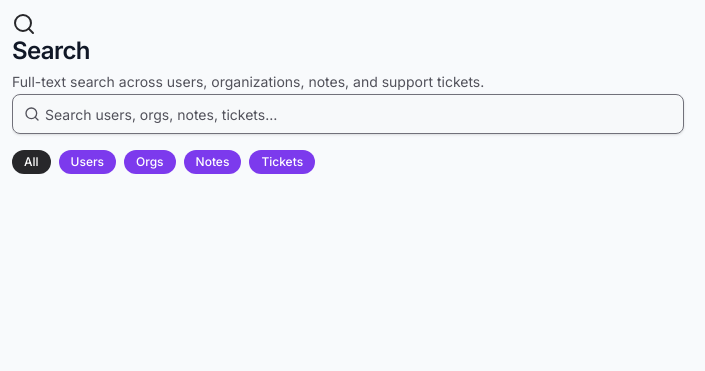
Test: search TanStack Query server state › shows empty state when search returns no hits
The image size is (705, 371).
Type "missing" into the field named "Search query" at (348, 114), box [12, 94, 684, 134]
Wait 350 ms
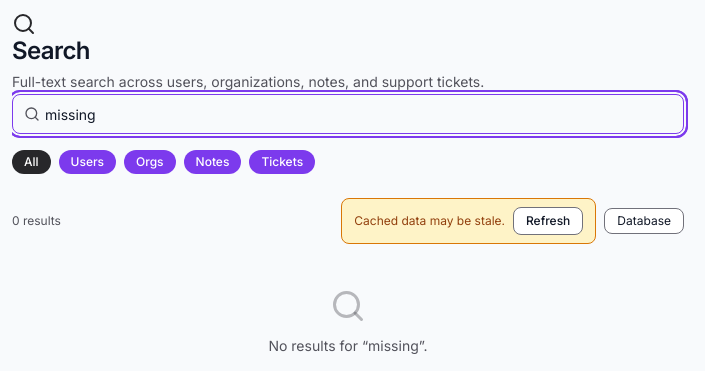
expect the text "No results for “missing”." is shown: met, box [268, 337, 428, 354]
